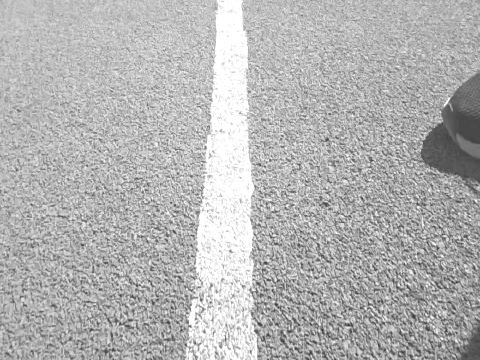Lines: (185, 0, 258, 360)
